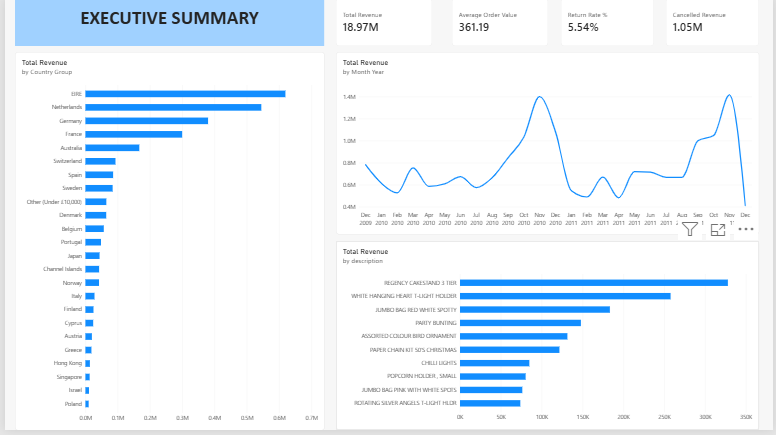

What the dashboard file says about the page in this screenshot:
{"tool":"powerbi","page":{"name":"Executive Summary","canvas":[1920,1080],"ordinal":0},"visuals":[{"type":"textbox","box":[25,0,772.5,120],"z":0},{"type":"clusteredBarChart","fields":{"Category":["retail_db fact_sales.Country Group"],"Y":["retail_db fact_sales.Total Revenue"]},"box":[24,134,774,946],"z":1000},{"type":"cardVisual","fields":{"Data":["fact_sales.Average Order Value"]},"box":[1117.5,0,240,120],"z":2000},{"type":"cardVisual","fields":{"Data":["fact_sales.Return Rate %"]},"box":[1390,0,232.5,120],"z":3000},{"type":"cardVisual","fields":{"Data":["fact_sales.Cancelled Revenue"]},"box":[1652.5,0,232.5,120],"z":4000},{"type":"lineChart","fields":{"Y":["fact_sales.Total Revenue"],"Category":["fact_sales.Month Year"]},"box":[828,134,1058,456],"z":5000},{"type":"clusteredBarChart","fields":{"Y":["fact_sales.Total Revenue"],"Category":["retail_db dim_product.description"]},"box":[828,608,1058,472],"z":6000},{"type":"cardVisual","fields":{"Data":["retail_db fact_sales.Total Revenue"]},"box":[827.5,0,240,120],"z":6001}]}

Visuals, with their boxes in screenshot pixels (x1, y1, x2, y2), scaled from the page's 1920x1080 canvas onto the 776x435 screenshot:
textbox: 10/0/322/48
clusteredBarChart - retail_db fact_sales.Country Group x retail_db fact_sales.Total Revenue: 10/54/323/434
cardVisual - fact_sales.Average Order Value: 452/0/549/48
cardVisual - fact_sales.Return Rate %: 562/0/656/48
cardVisual - fact_sales.Cancelled Revenue: 668/0/762/48
lineChart - fact_sales.Total Revenue x fact_sales.Month Year: 335/54/762/238
clusteredBarChart - fact_sales.Total Revenue x retail_db dim_product.description: 335/245/762/434
cardVisual - retail_db fact_sales.Total Revenue: 334/0/431/48
